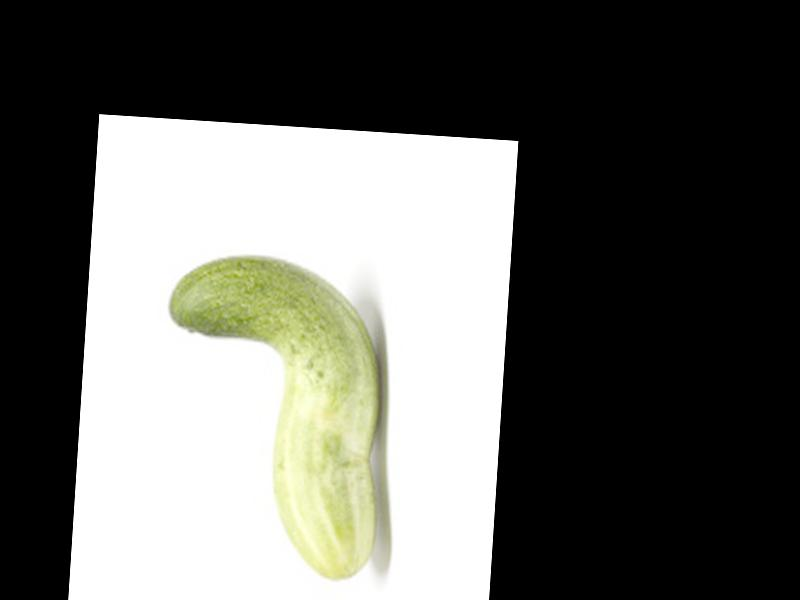Cucumber: (152, 249, 394, 583)
